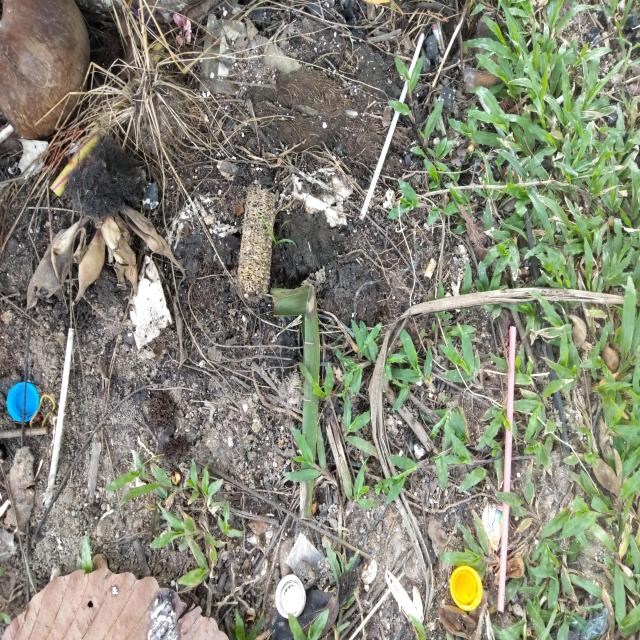litter: (356, 35, 426, 220), (0, 0, 90, 139), (66, 136, 141, 221), (498, 327, 516, 613), (238, 181, 280, 296), (450, 564, 482, 609), (276, 576, 306, 617), (12, 387, 38, 419)
